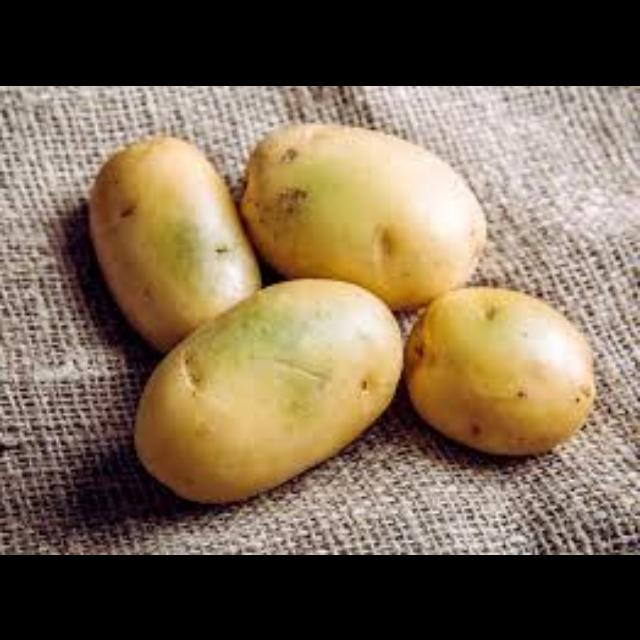Defected potato: (112, 278, 418, 507), (242, 103, 494, 311), (81, 127, 273, 353), (401, 260, 593, 476)
